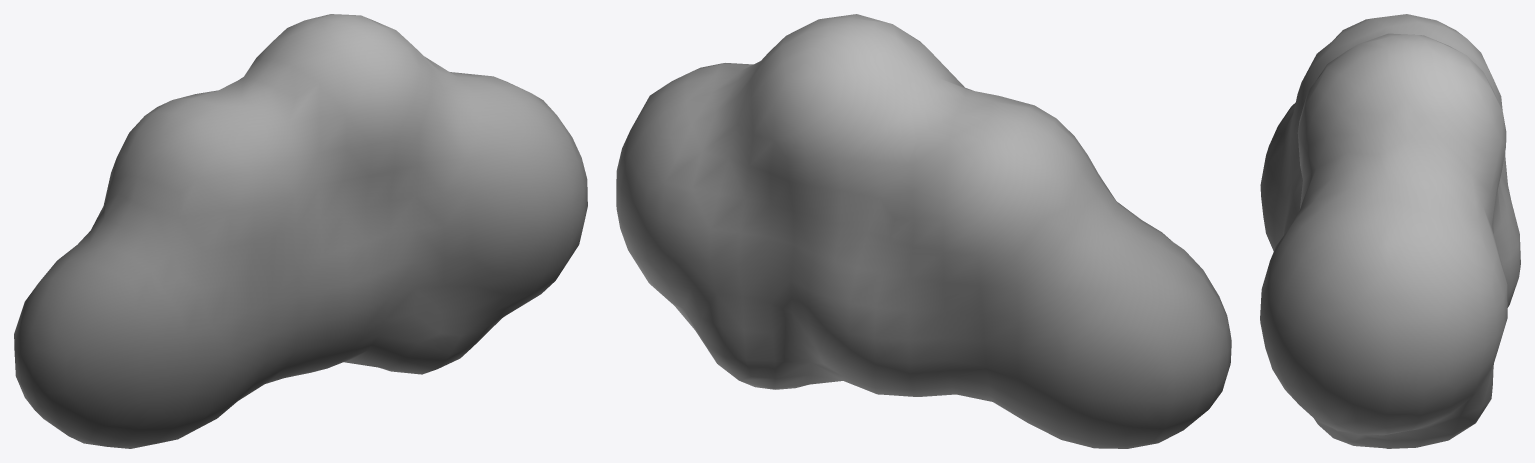
File: 4_BerawanTebal.fbx
The picture shows the model from 3 angles, left to right: view 1: azimuth 30°, elevation 25°; view 2: azimuth 150°, elevation 25°; view 3: azimuth 270°, elevation 25°; orthographic projection. The views are drawn at different scales.
Visible parts, largest first — view 1: BerawanTebal; view 2: BerawanTebal; view 3: BerawanTebal.
Boxes of the visible parts, x1,y1,x2,y2 form: BerawanTebal: (14,14,587,448); BerawanTebal: (616,14,1231,448); BerawanTebal: (1260,14,1520,448).
Bounding box in the file's own units: 559 × 339 × 217.
